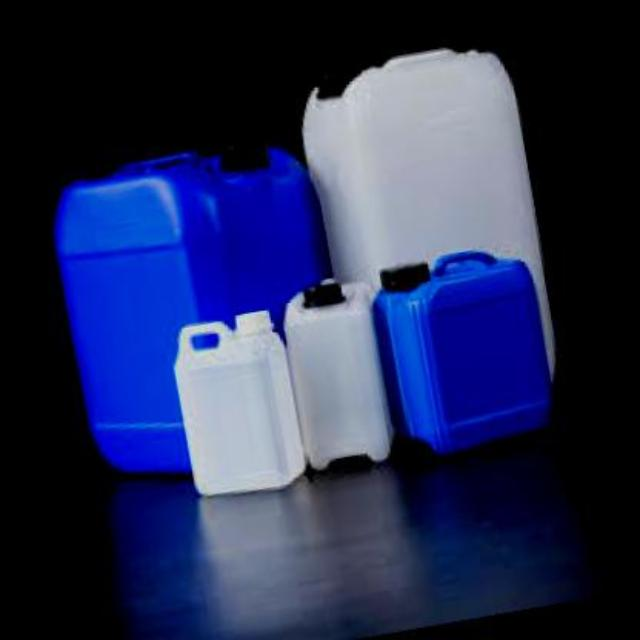chemical_plastic_gallon: (365, 227, 569, 463), (164, 295, 310, 505)
